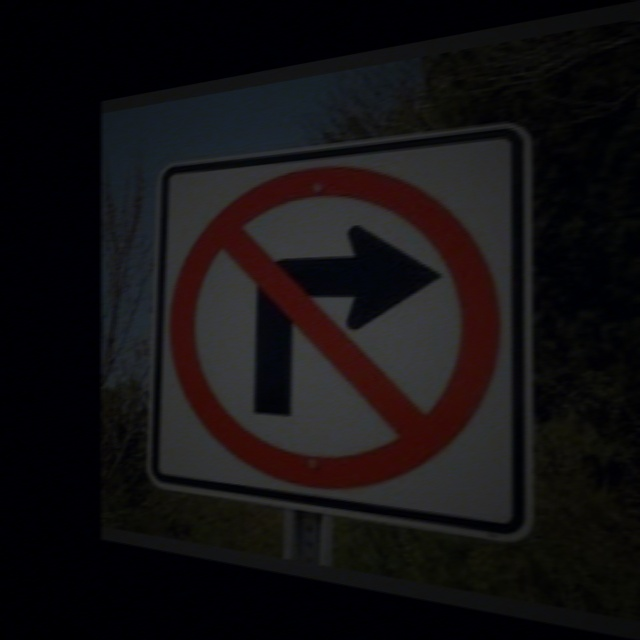Right_Turn_Prohibited: (167, 126, 508, 511)
